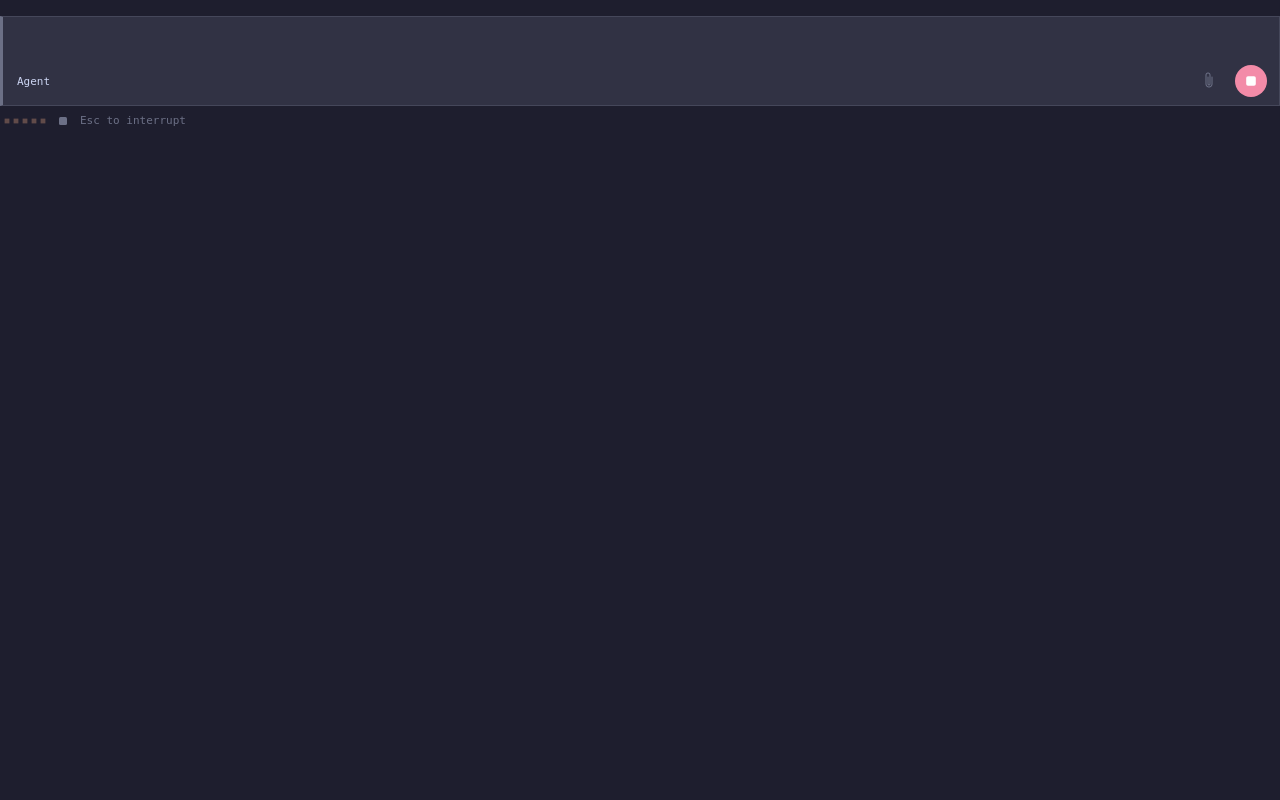
Composer input › prefills a routine prompt without sending it
Type "/routines" into the text box at (641, 39), box x1=3 y1=17 x2=1279 y2=61
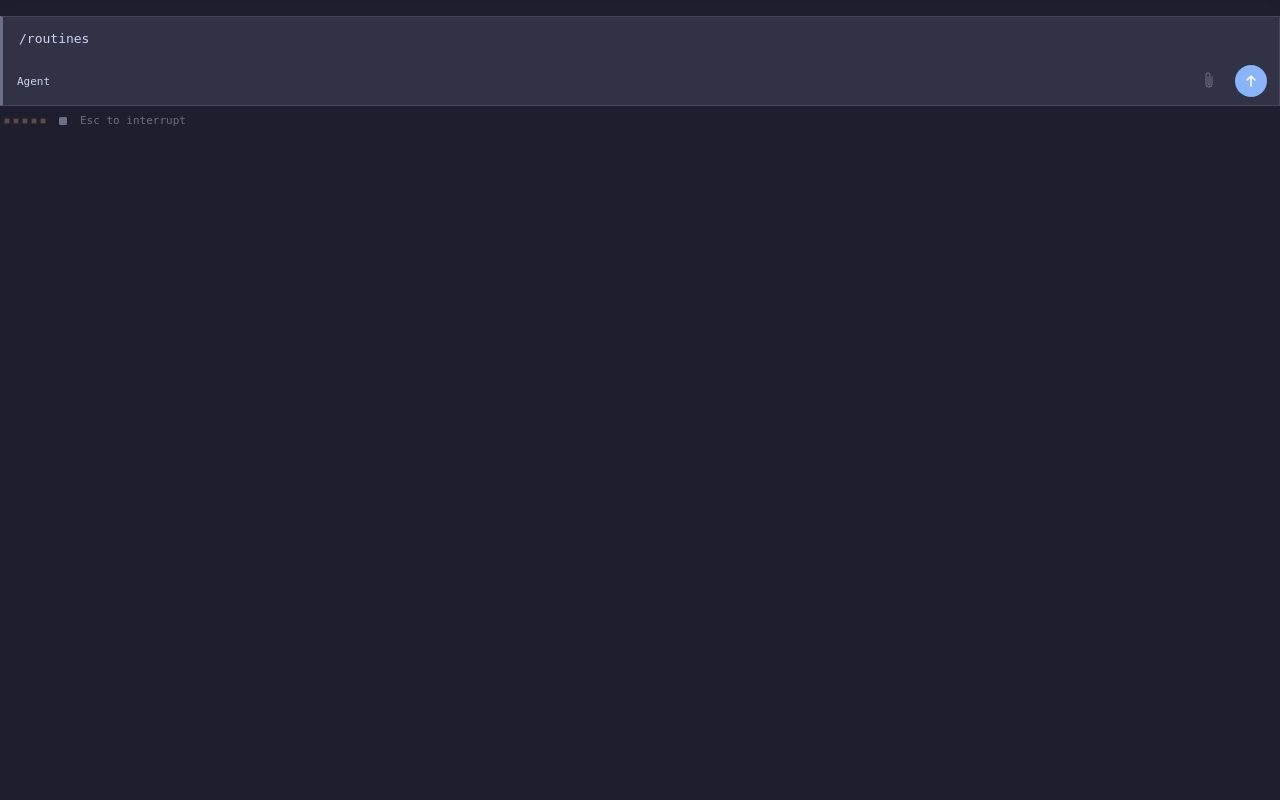
Press Enter in the text box, box x1=3 y1=17 x2=1279 y2=61
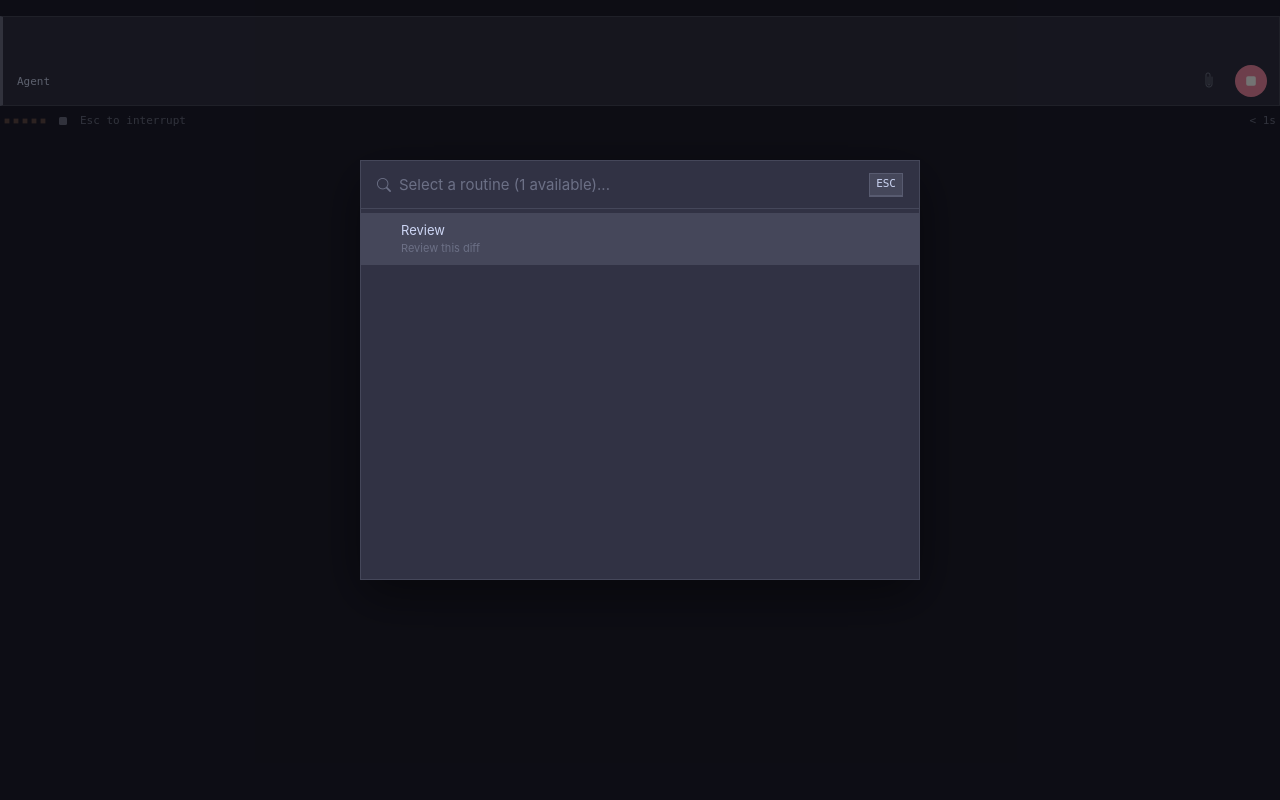
Now the button named "Stop generation" is shown, box x1=1235 y1=65 x2=1267 y2=97
Click the text "Review" at (423, 230), box x1=401 y1=222 x2=445 y2=238
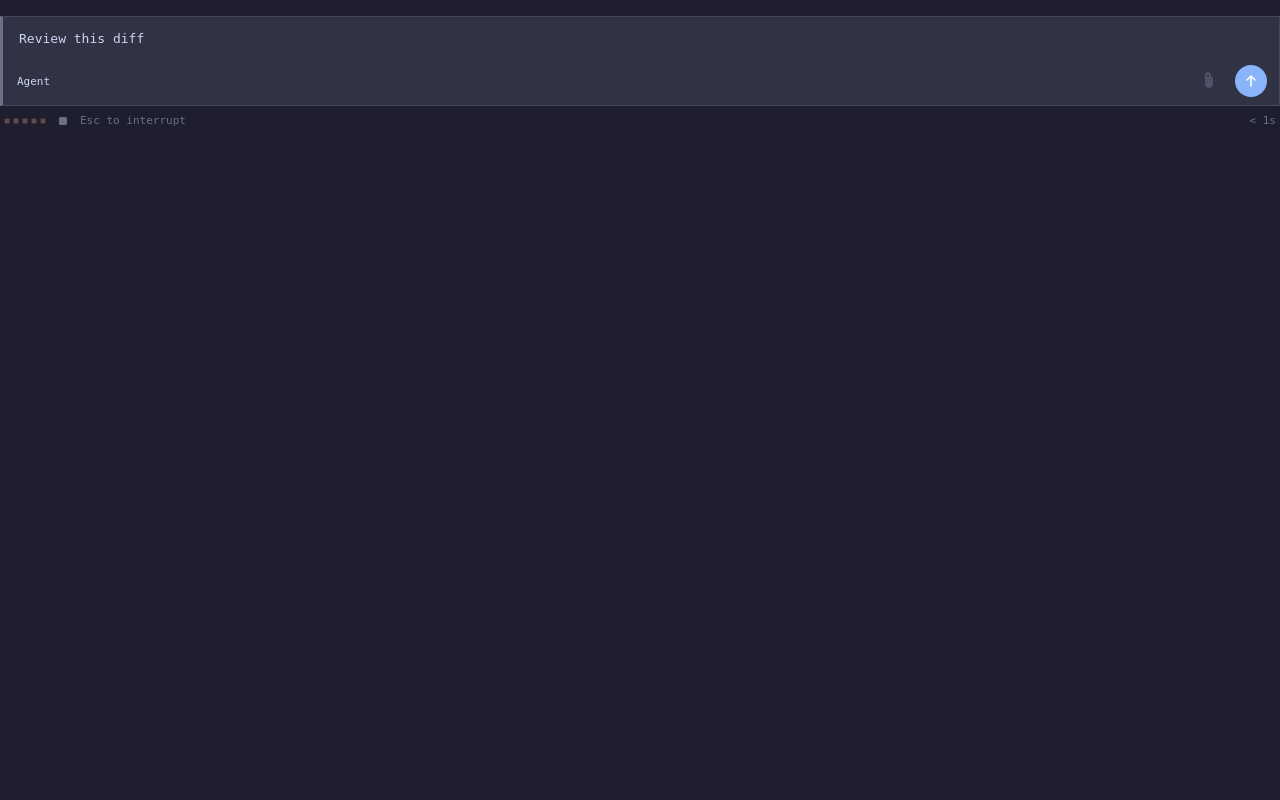
Now the text box holds "Review this diff", box x1=3 y1=17 x2=1279 y2=61
Now the button named "Send message" is shown, box x1=1235 y1=65 x2=1267 y2=97
